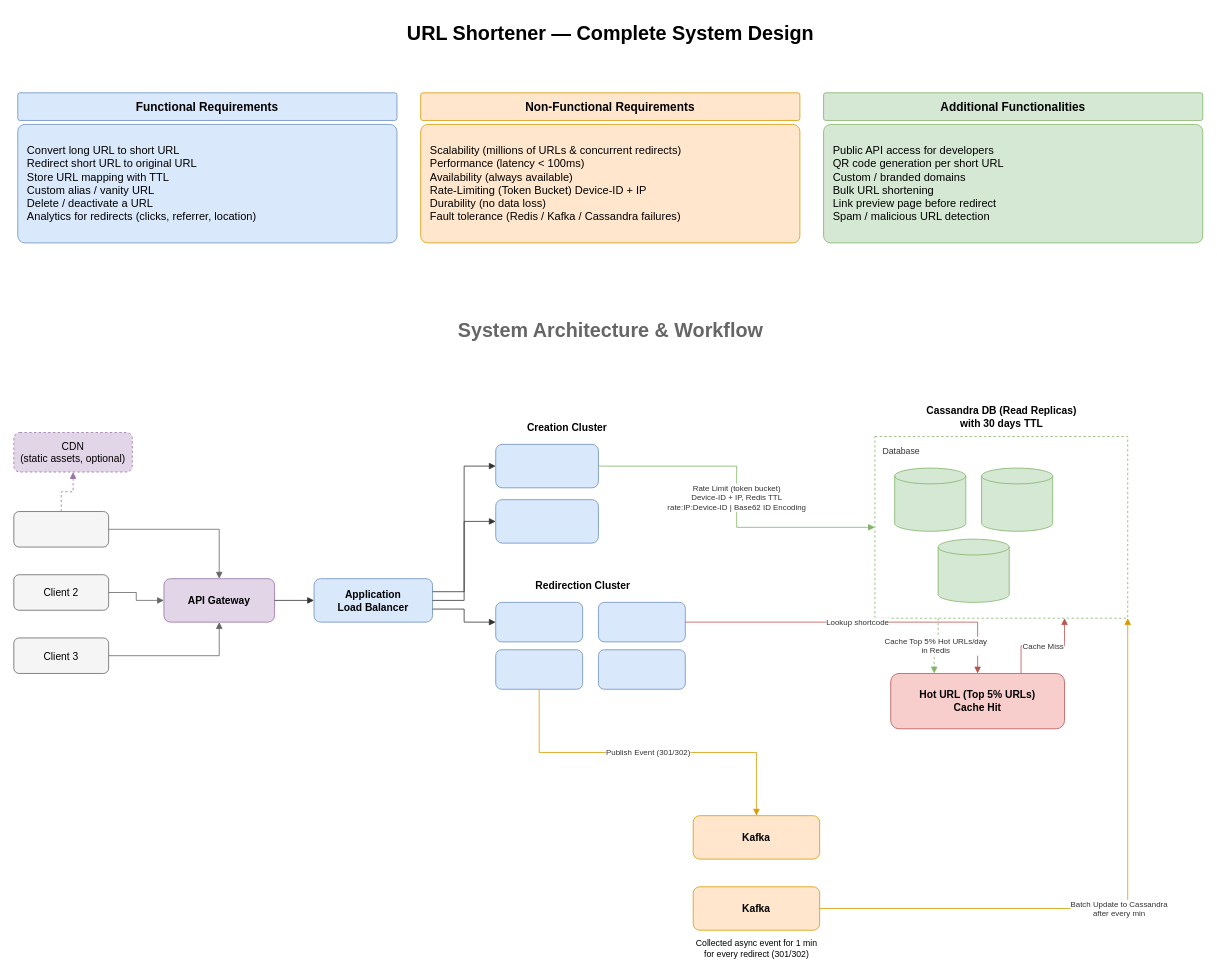
The diagram is 1217 pixels wide and 975 high, and some of its shapes have lost their labels. The centre of each missing label's shape, as x and y in pixels:
Client 1: point (61, 529)
Creation Server 1: point (546, 466)
Creation Server 2: point (546, 521)
Server 1: point (539, 622)
Server 2: point (641, 622)
Server 3: point (539, 669)
Server 4: point (641, 669)
